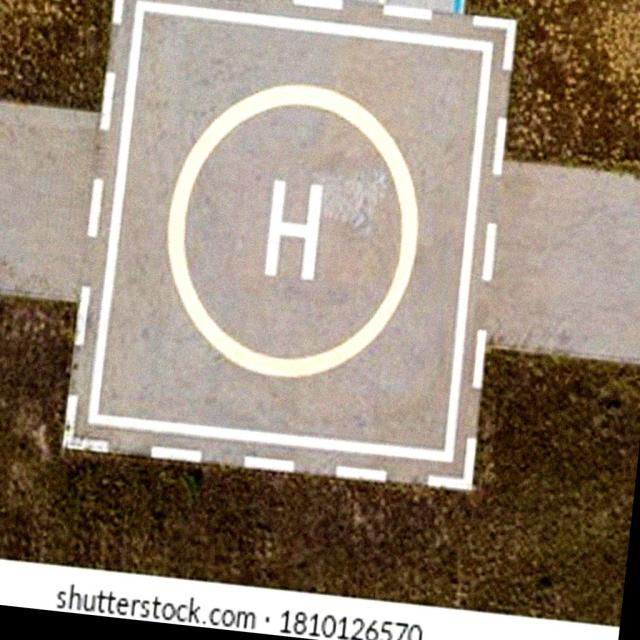helipad: (159, 79, 423, 382)
